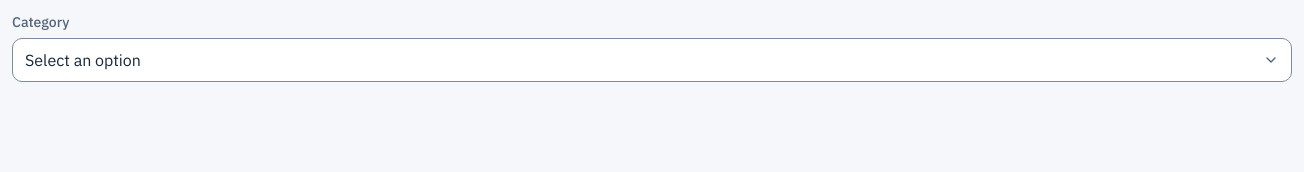
Test: Select › announces empty, loading, disabled, and validation states
Later steps or results of the test are not shown.
Click the dropdown named "Category" at (83,60), box [12, 38, 1292, 82]
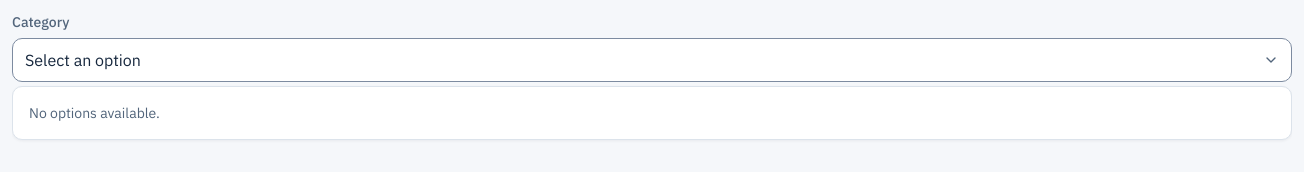
Now the text "No options available." is shown, box [29, 104, 160, 122]
